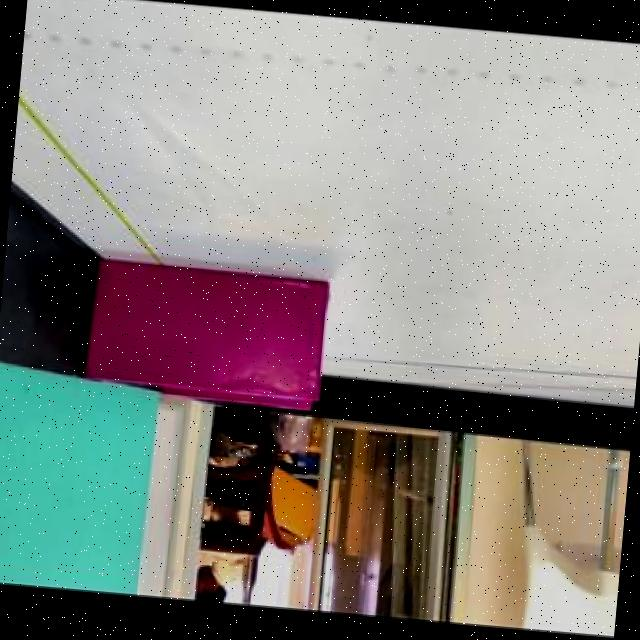xparking: (98, 260, 329, 398)
